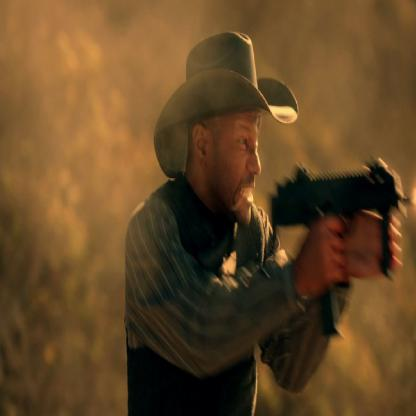Guns: (265, 151, 415, 344)
